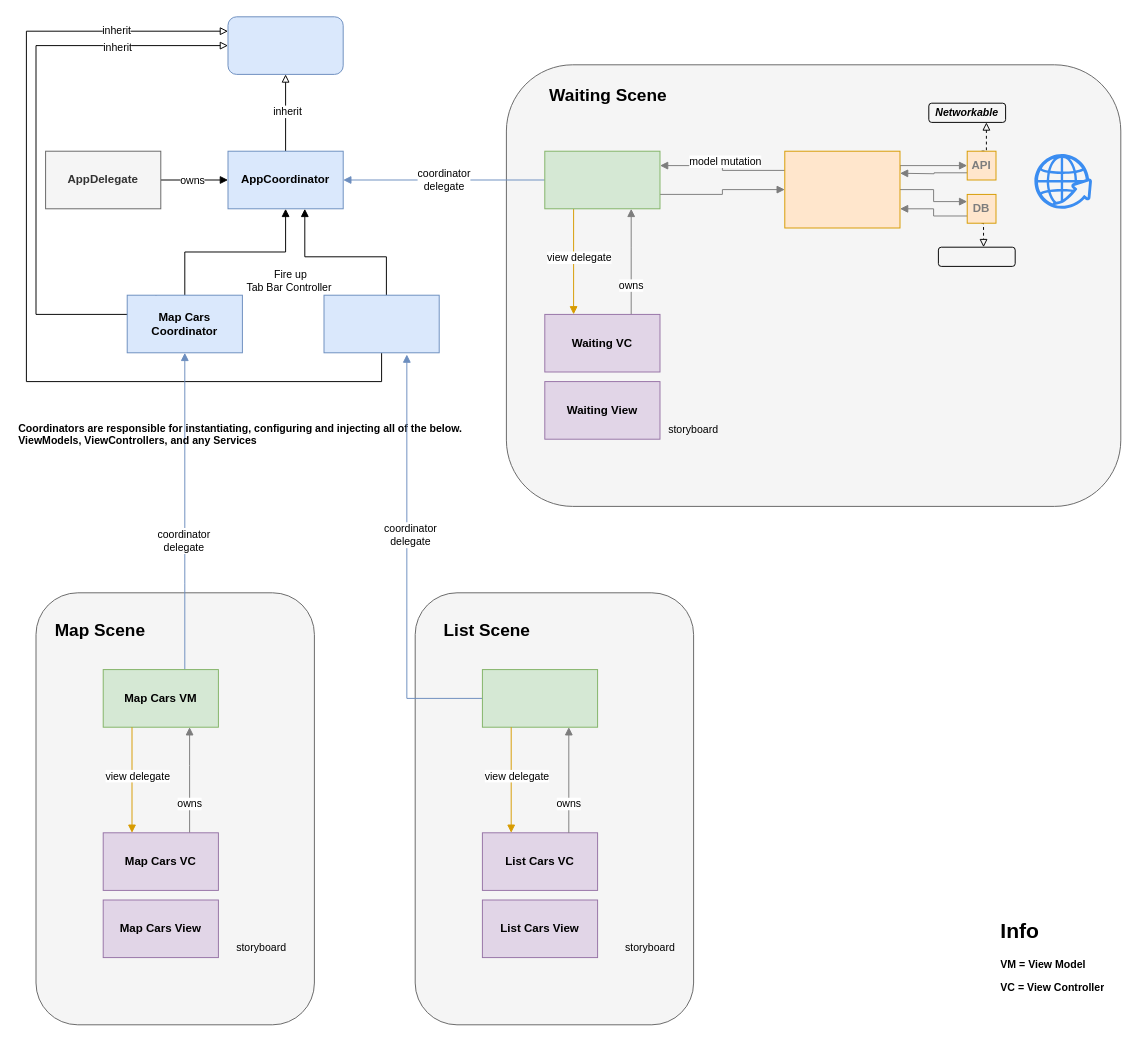
This 1141x1042 diagram has some shape labels left out. Each missing label, with the box of its shape:
AppServices: (784, 150, 900, 228)
Coordinator base class: (227, 16, 343, 74)
List Cars Coordinator: (323, 294, 439, 353)
List Cars VM: (481, 669, 598, 727)
Storage: (937, 246, 1015, 266)
Waiting VM: (544, 150, 660, 209)
